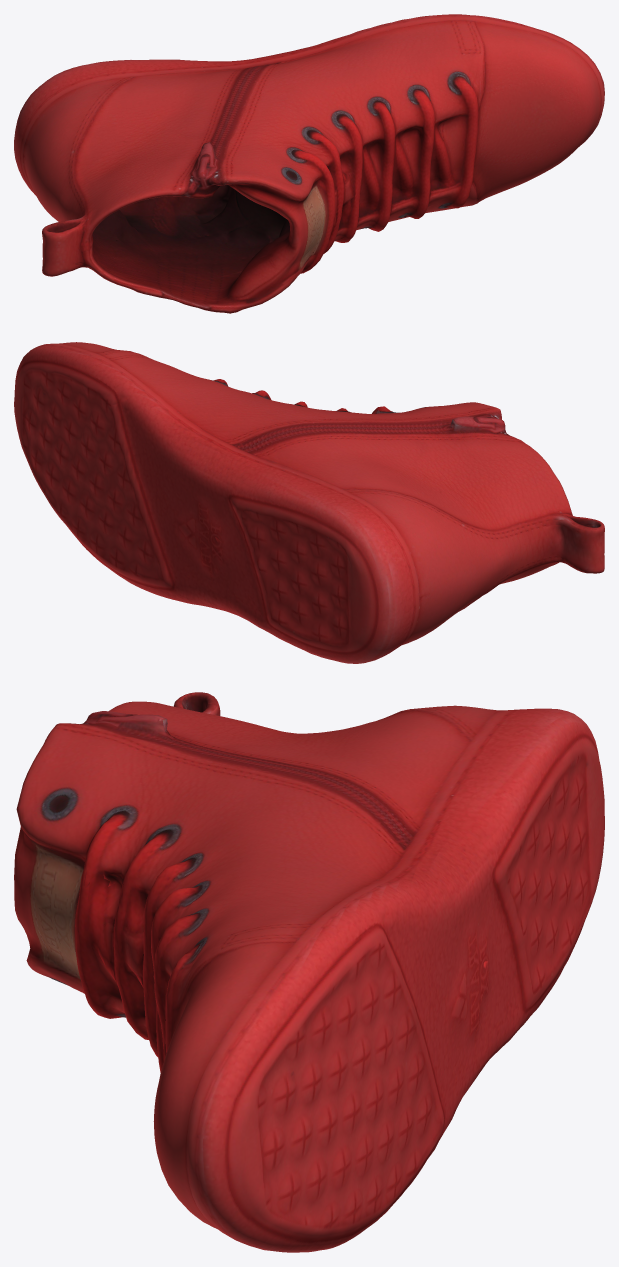
The picture shows the model from 3 angles, top to bottom: view 1: azimuth 30°, elevation 25°; view 2: azimuth 150°, elevation 25°; view 3: azimuth 270°, elevation 25°; orthographic projection. The views are drawn at different scales.
Visible parts, largest first — view 1: default; view 2: default; view 3: default.
Boxes of the visible parts, x1,y1,x2,y2 form: default: [14, 14, 604, 313]; default: [14, 342, 604, 663]; default: [14, 692, 604, 1252].
Bounding box in the file's own units: 416 × 137 × 222.
